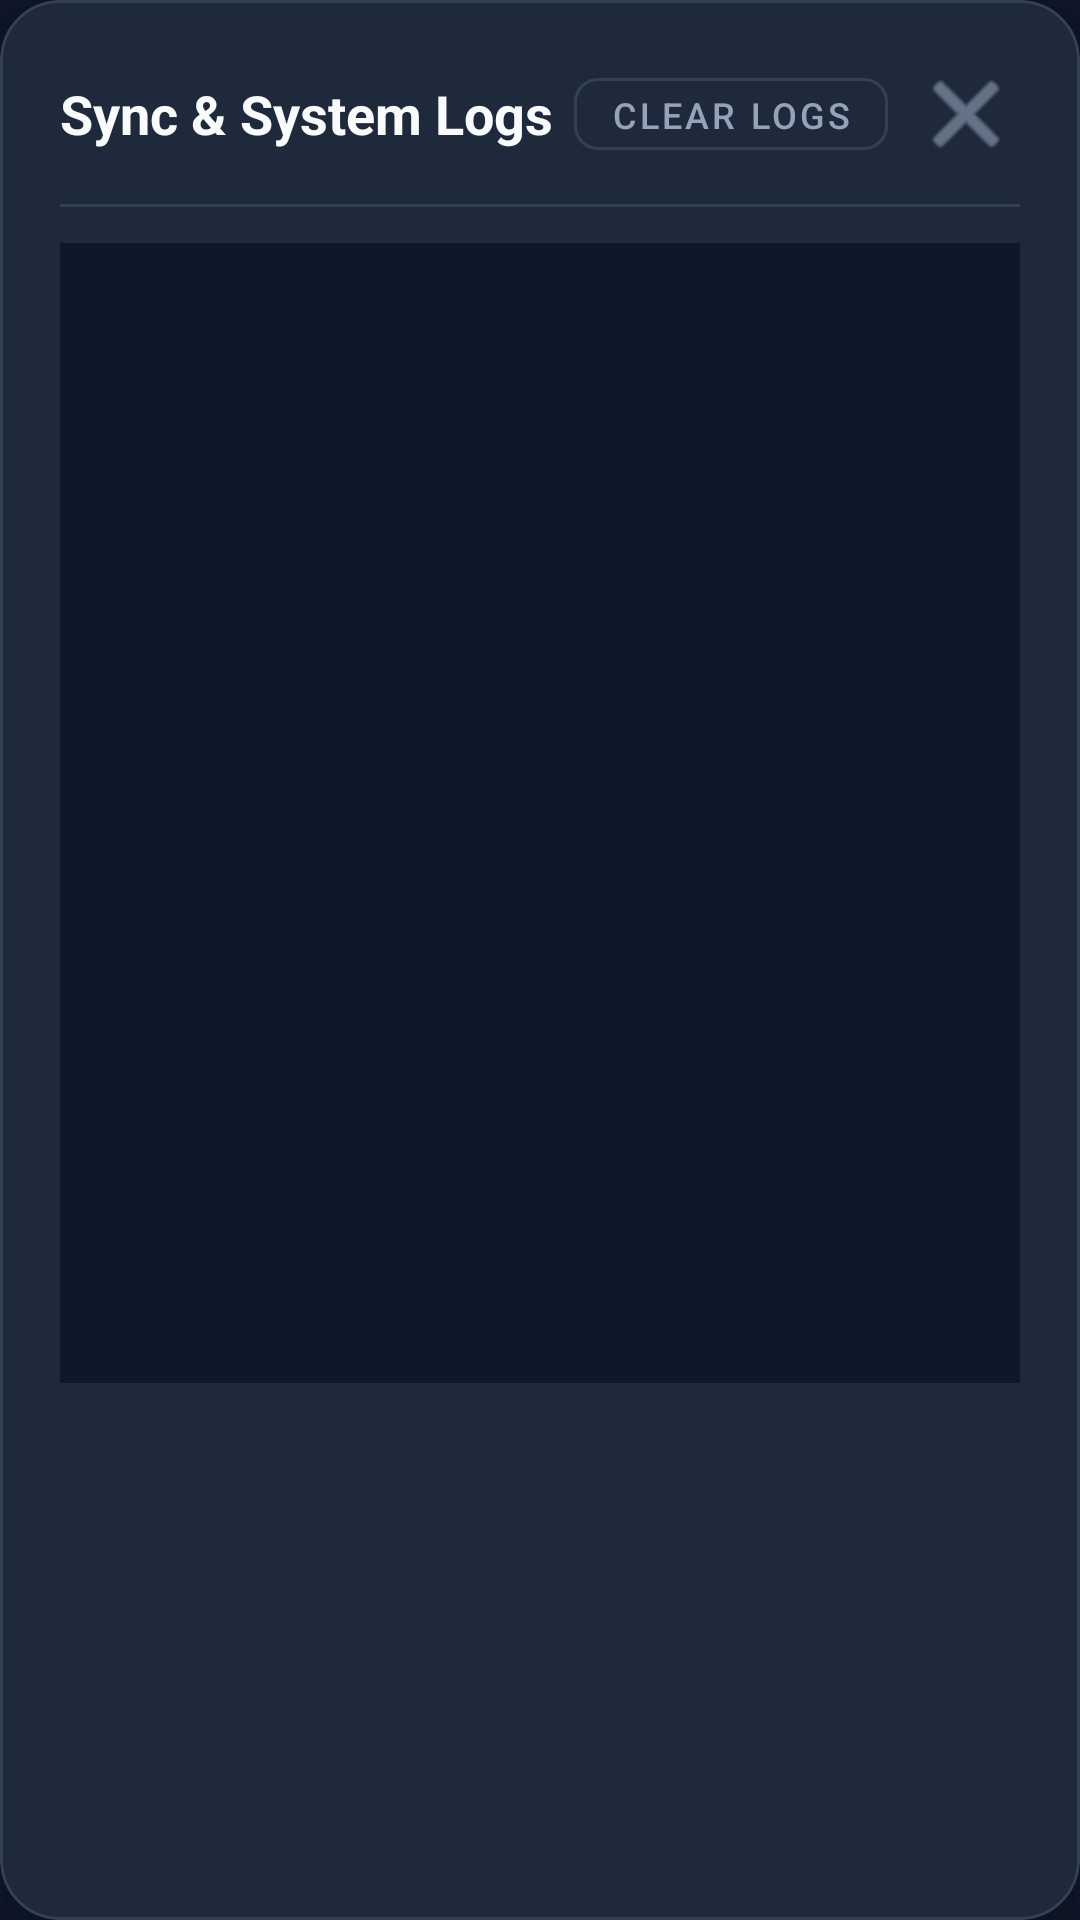

Screen size 1080px×1920px. Icon name, then its box in pixels as bbox=(x1, y1, x2, y2):
CLOSE: bbox=(933, 81, 999, 147)
